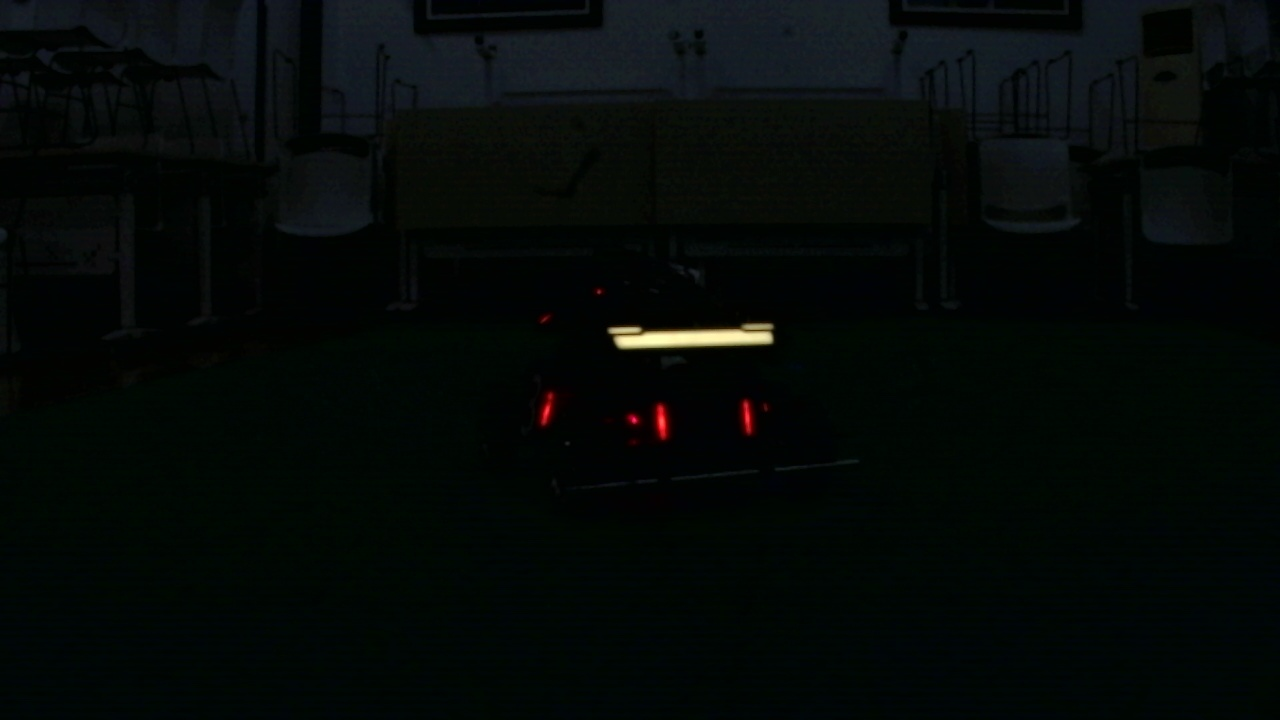lamp: (536, 392, 554, 424), (743, 396, 756, 436), (655, 401, 666, 444)
pair1: (655, 401, 753, 436)
